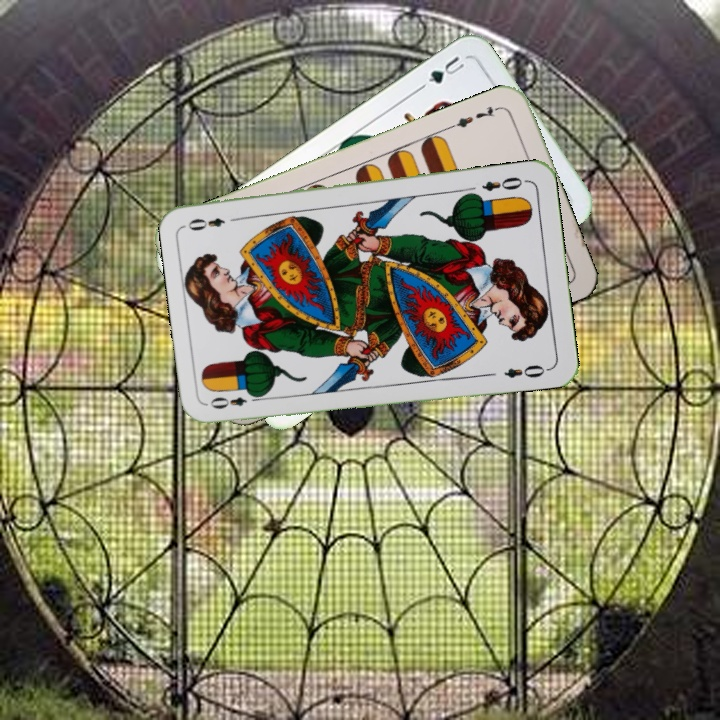E7: (447, 101, 504, 131)
EO: (206, 389, 264, 412), (478, 172, 530, 194)
GU: (416, 51, 467, 92)
